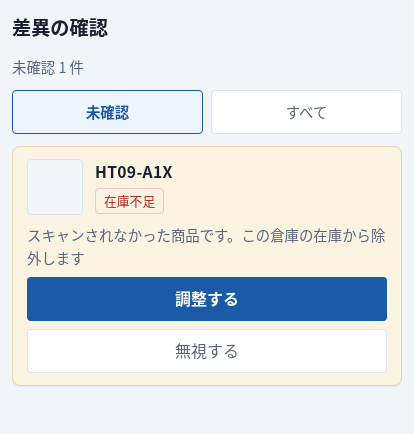
stocktake difference review (M3-6) › confirms a diff through the two-step flow and updates the row in place
The image size is (414, 434).
Note: 第一步：確認 → 行内二次确认；いいえ 可退回
Click the button "調整する" at point(207, 299), box [27,277,387,321]
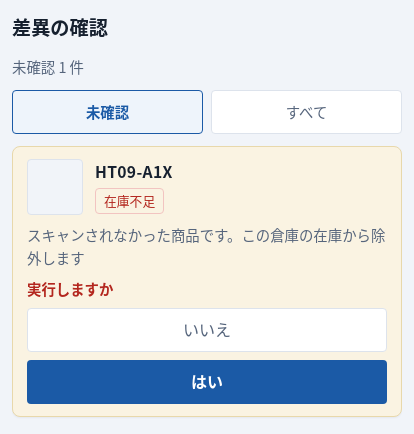
Expected: the element with class "diff-row" shows "実行しますか", [27,278,113,299]
Click the button "いいえ" at point(207, 330), box [27,308,387,352]
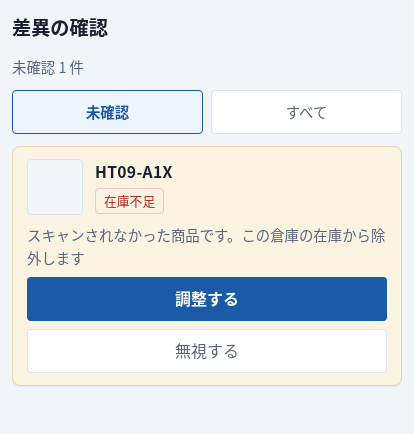
Note: 第二步：はい → CONFIRM 落库 → 行置为調整済み、待确认计数-1
Click the button "調整する" at point(207, 299), box [27,277,387,321]
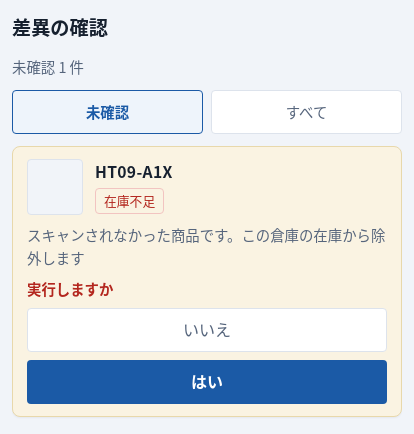
Click the button "はい" at point(207, 382), box [27,360,387,404]
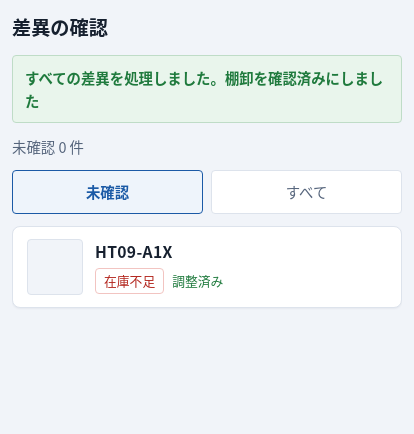
Expected: the element with class "diff-row" shows "調整済み", [172,271,223,290]
Expected: the text "未確認 0 件" is shown, [12,136,84,157]
Expected: the message "すべての差異を処理しました。棚卸を確認済みにしました" is shown, [12,55,402,123]
